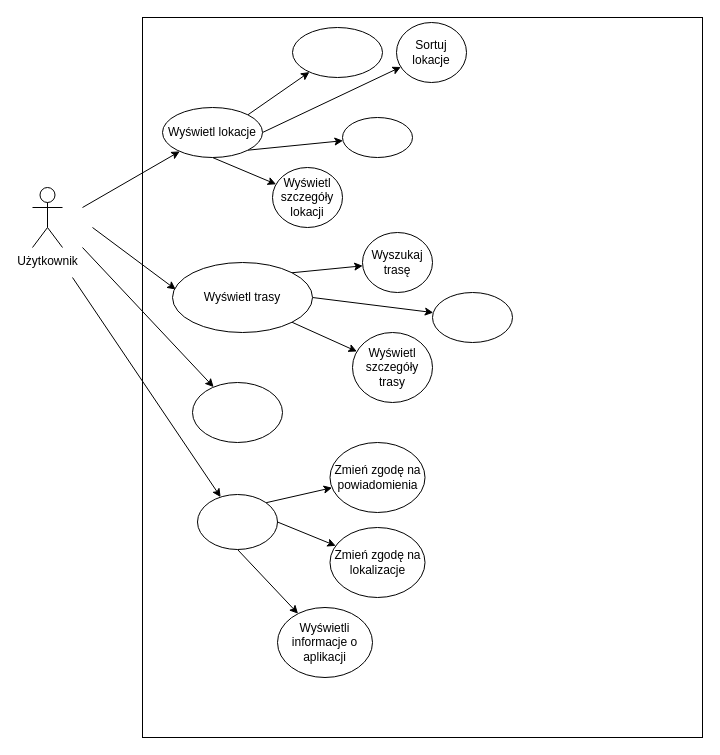
The diagram is 720 pixels wide and 755 high, and some of its shapes have lost their labels. Each missing label, with the centre of its shape:
Dodaj lokacje: pixel 377 137
Dodaj trasę: pixel 472 317
Wyszukaj lokacje: pixel 337 52
Wyświetl najbliższą lokacje: pixel 237 412
Wyświetl ustawienia: pixel 237 522
